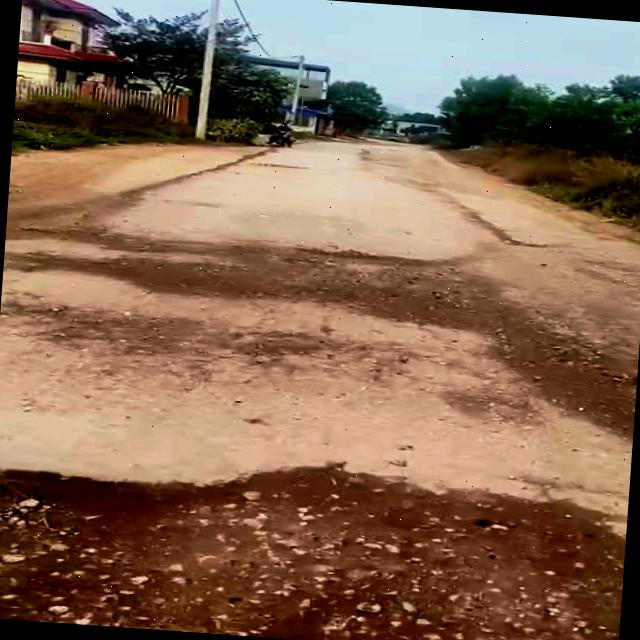pothole: (0, 443, 629, 640)
